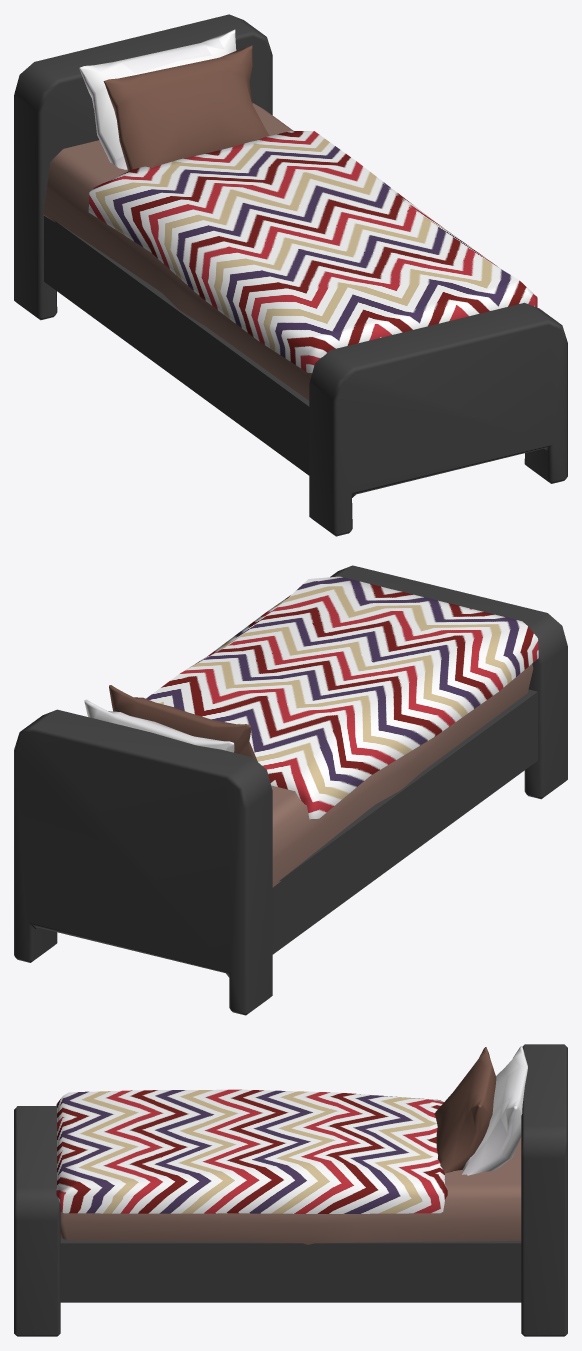
Rendered from bed_001.fbx.
The picture shows the model from 3 angles, top to bottom: view 1: azimuth 30°, elevation 25°; view 2: azimuth 150°, elevation 25°; view 3: azimuth 270°, elevation 25°; orthographic projection. The views are drawn at different scales.
Visible parts, largest first — view 1: bed_001; view 2: bed_001; view 3: bed_001.
Part boxes in pixels (bbox=[...]): bed_001: bbox=[14, 14, 567, 536]; bed_001: bbox=[14, 565, 567, 1015]; bed_001: bbox=[14, 1044, 567, 1336].
Bounding box in the file's own units: 106 × 249 × 106.
